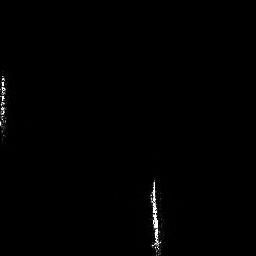ship: (147, 175, 164, 256), (1, 74, 7, 139)
